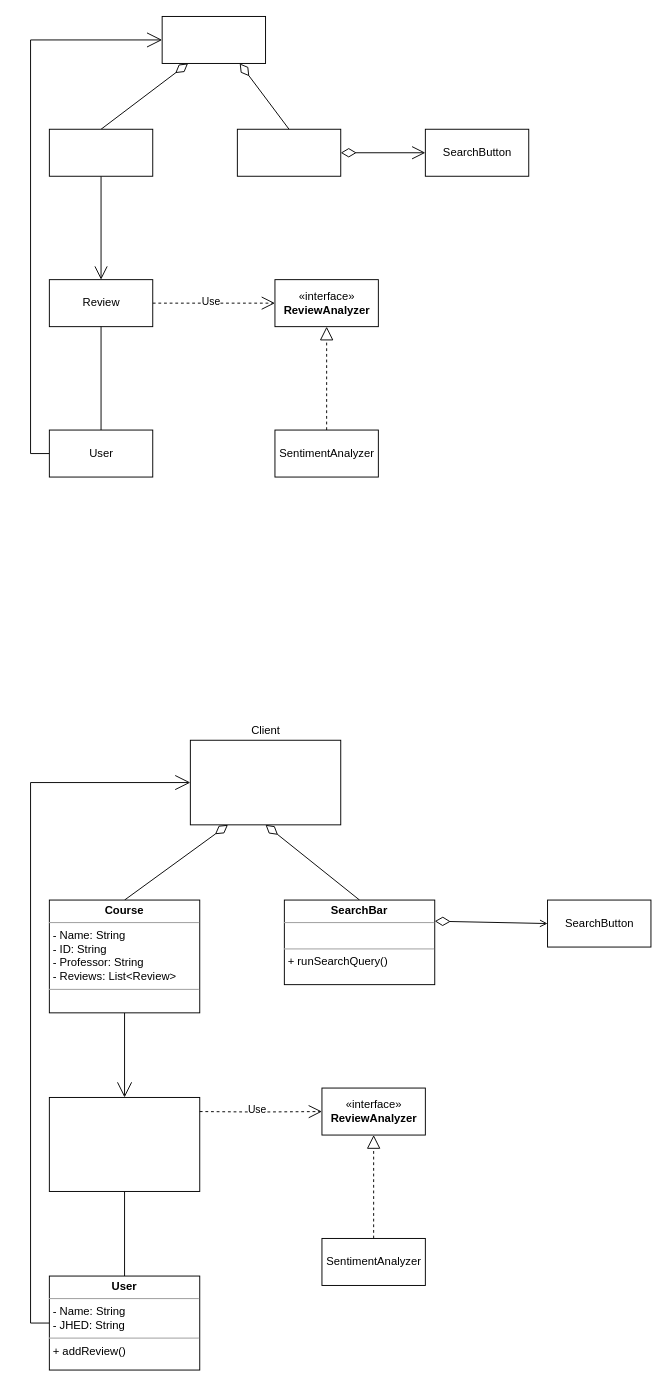
This 667x1387 diagram has some shape labels left out. Here are the shapes that lost their labels. From the top down, the centre of each, then its label:
At (213,39): "WebPage".
At (100,152): "Course".
At (288,152): "SearchBar".
At (265,782): "WebPage - Courses: List<Course> - SearchBar: SearchBar".
At (124,1144): "Review - User: User - Response: String - Sentiment: String".
